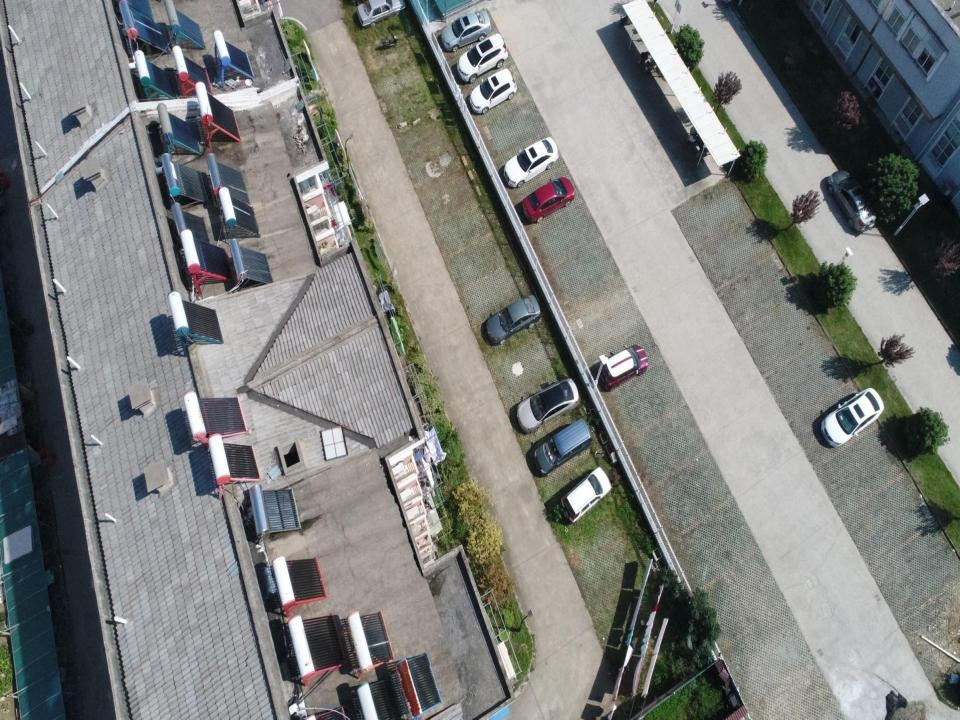car: (820, 388, 885, 448), (516, 378, 580, 433), (828, 170, 880, 235), (534, 419, 590, 472), (503, 138, 560, 190), (561, 468, 612, 523), (485, 294, 542, 342), (456, 34, 508, 82), (522, 177, 575, 224), (597, 346, 649, 388), (471, 68, 517, 115), (442, 7, 492, 50), (356, 1, 404, 28)
